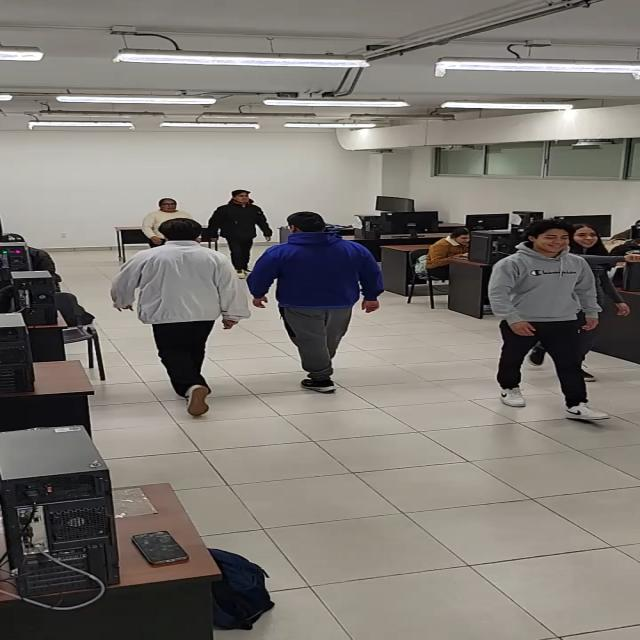Persona: (113, 218, 253, 418), (247, 210, 383, 394), (488, 220, 612, 421), (527, 224, 640, 382)
